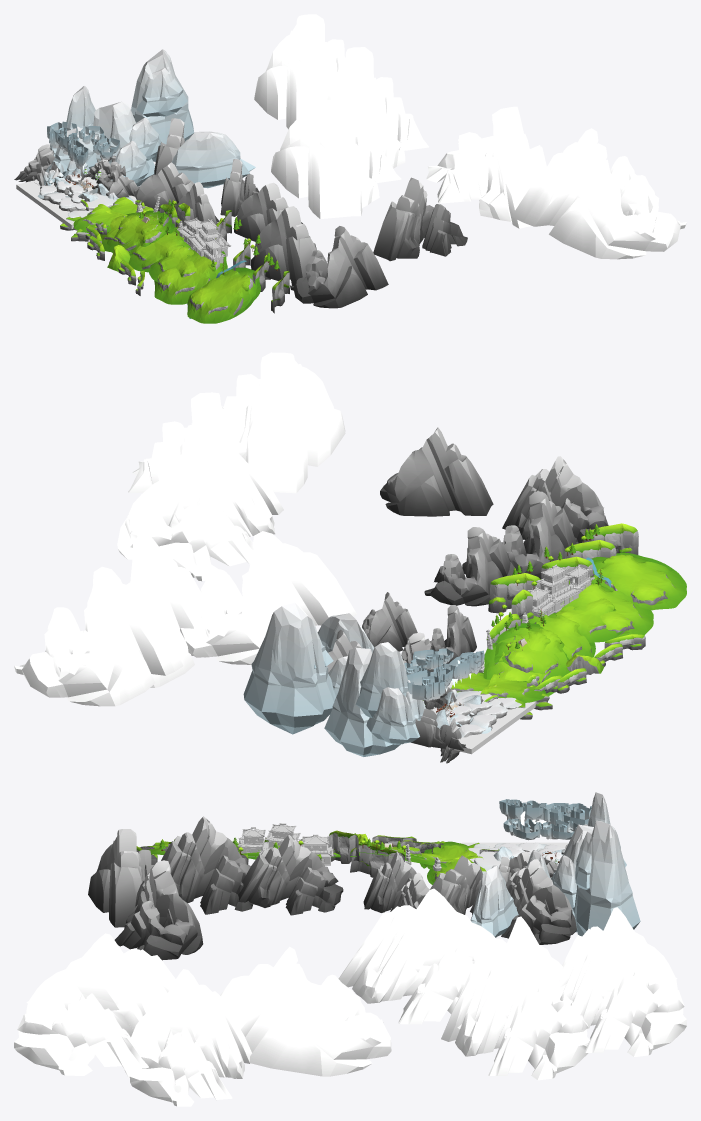
The model's file is SceneKZX.fbx.
3 renders of one model, top to bottom at view 1: azimuth 30°, elevation 25°; view 2: azimuth 150°, elevation 25°; view 3: azimuth 270°, elevation 25°, orthographic. The views are drawn at different scales.
Parts seen in each view (by area): view 1: DistantBackgroundMountains_82_StaticMeshComponent0.004, DistantBackgroundMountains_82_StaticMeshComponent0.001, DistantBackgroundMountains_82_StaticMeshComponent0.002, DistantBackgroundMountains_82_StaticMeshComponent0.006, DistantBackgroundMountains_82_StaticMeshComponent0.003, DistantBackgroundMountains_3_StaticMeshComponent0, DistantBackgroundMountains_4_StaticMeshComponent0, DistantBackgroundMountains_6_StaticMeshComponent0, IceBerg_93_StaticMeshComponent0, StaticMeshActor_42_StaticMeshComponent0, StaticMeshActor_1_StaticMeshComponent0, IceBerg_86_StaticMeshComponent0 (+22 smaller); view 2: DistantBackgroundMountains_82_StaticMeshComponent0.002, DistantBackgroundMountains_82_StaticMeshComponent0.006, DistantBackgroundMountains_82_StaticMeshComponent0.001, DistantBackgroundMountains_82_StaticMeshComponent0.004, IceBerg_86_StaticMeshComponent0, DistantBackgroundMountains_4_StaticMeshComponent0, DistantBackgroundMountains_82_StaticMeshComponent0.003, DistantBackgroundMountains_82_StaticMeshComponent0.005, DistantBackgroundMountains_5_StaticMeshComponent0, DistantBackgroundMountains_3_StaticMeshComponent0, StaticMeshActor_42_StaticMeshComponent0, DistantBackgroundMountains_6_StaticMeshComponent0 (+20 smaller); view 3: DistantBackgroundMountains_82_StaticMeshComponent0.003, DistantBackgroundMountains_82_StaticMeshComponent0.004, DistantBackgroundMountains_82_StaticMeshComponent0.002, DistantBackgroundMountains_82_StaticMeshComponent0.006, DistantBackgroundMountains_82_StaticMeshComponent0.001, DistantBackgroundMountains_82_StaticMeshComponent0.005, DistantBackgroundMountains_6_StaticMeshComponent0, DistantBackgroundMountains_5_StaticMeshComponent0, DistantBackgroundMountains_4_StaticMeshComponent0, IceBerg_86_StaticMeshComponent0, DistantBackgroundMountains_3_StaticMeshComponent0, DistantBackgroundMountains_83_StaticMeshComponent0.001 (+18 smaller).
Boxes of the visible parts, <box> form: DistantBackgroundMountains_82_StaticMeshComponent0.004: <box>511,143,686,259</box>; DistantBackgroundMountains_82_StaticMeshComponent0.001: <box>271,99,401,218</box>; DistantBackgroundMountains_82_StaticMeshComponent0.002: <box>426,106,546,228</box>; DistantBackgroundMountains_82_StaticMeshComponent0.006: <box>254,14,345,129</box>; DistantBackgroundMountains_82_StaticMeshComponent0.003: <box>327,47,428,168</box>; DistantBackgroundMountains_3_StaticMeshComponent0: <box>290,226,388,308</box>; DistantBackgroundMountains_4_StaticMeshComponent0: <box>373,177,467,261</box>; DistantBackgroundMountains_6_StaticMeshComponent0: <box>251,206,316,285</box>; IceBerg_93_StaticMeshComponent0: <box>169,131,255,188</box>; StaticMeshActor_42_StaticMeshComponent0: <box>187,267,260,323</box>; StaticMeshActor_1_StaticMeshComponent0: <box>154,250,227,304</box>; IceBerg_86_StaticMeshComponent0: <box>131,49,194,161</box>; DistantBackgroundMountains_82_StaticMeshComponent0.002: <box>117,436,283,581</box>; DistantBackgroundMountains_82_StaticMeshComponent0.006: <box>14,566,183,706</box>; DistantBackgroundMountains_82_StaticMeshComponent0.001: <box>180,531,356,664</box>; DistantBackgroundMountains_82_StaticMeshComponent0.004: <box>222,352,345,493</box>; IceBerg_86_StaticMeshComponent0: <box>243,602,335,734</box>; DistantBackgroundMountains_4_StaticMeshComponent0: <box>380,427,493,516</box>; DistantBackgroundMountains_82_StaticMeshComponent0.003: <box>80,534,205,687</box>; DistantBackgroundMountains_82_StaticMeshComponent0.005: <box>128,392,246,492</box>; DistantBackgroundMountains_5_StaticMeshComponent0: <box>424,527,510,606</box>; DistantBackgroundMountains_3_StaticMeshComponent0: <box>502,456,608,544</box>; StaticMeshActor_42_StaticMeshComponent0: <box>590,553,686,610</box>; DistantBackgroundMountains_6_StaticMeshComponent0: <box>501,491,576,579</box>; DistantBackgroundMountains_82_StaticMeshComponent0.003: <box>441,916,589,1080</box>; DistantBackgroundMountains_82_StaticMeshComponent0.004: <box>14,933,175,1075</box>; DistantBackgroundMountains_82_StaticMeshComponent0.002: <box>220,946,391,1076</box>; DistantBackgroundMountains_82_StaticMeshComponent0.006: <box>559,907,686,1056</box>; DistantBackgroundMountains_82_StaticMeshComponent0.001: <box>338,888,495,1028</box>; DistantBackgroundMountains_82_StaticMeshComponent0.005: <box>124,969,251,1106</box>; DistantBackgroundMountains_6_StaticMeshComponent0: <box>161,816,253,914</box>; DistantBackgroundMountains_5_StaticMeshComponent0: <box>238,835,343,915</box>; DistantBackgroundMountains_4_StaticMeshComponent0: <box>114,860,203,960</box>; IceBerg_86_StaticMeshComponent0: <box>573,820,640,936</box>; DistantBackgroundMountains_3_StaticMeshComponent0: <box>88,829,153,927</box>; DistantBackgroundMountains_83_StaticMeshComponent0.001: <box>501,859,576,944</box>.
Size of the model in its own units: 57617 by 15134 by 60508.
Materials: 8 (2 with a texture image).
